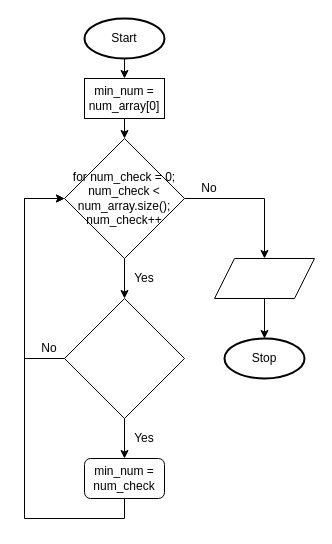
Image size: 332x544. Some labels were removed from this diagram. Here are the shapes that lost their labels. From the top down, the centre of each, then its label:
(x=264, y=278): return max_num
(x=124, y=358): if num_check < min_num
